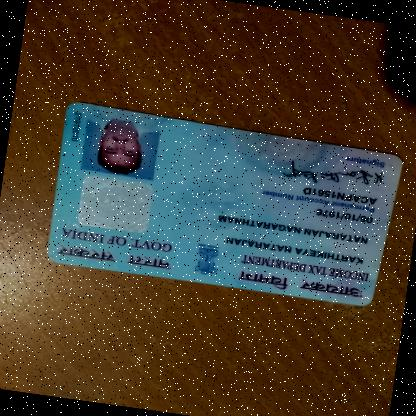pan_card: (42, 92, 405, 316)
